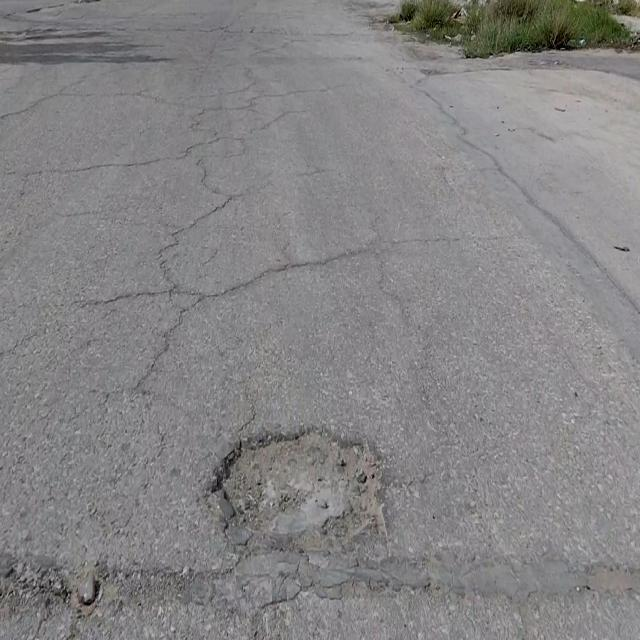Potholes: (209, 417, 387, 556)
